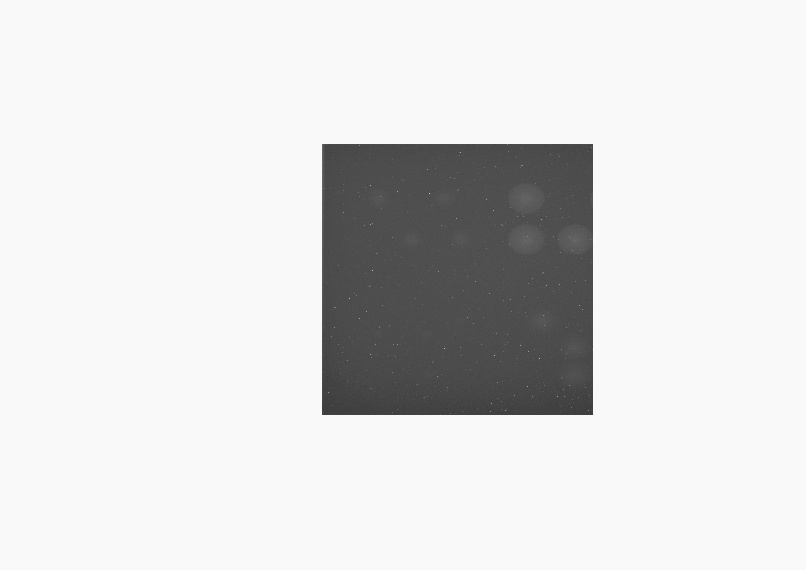cluster: (506, 182, 593, 256), (368, 188, 469, 250), (528, 307, 593, 386)
